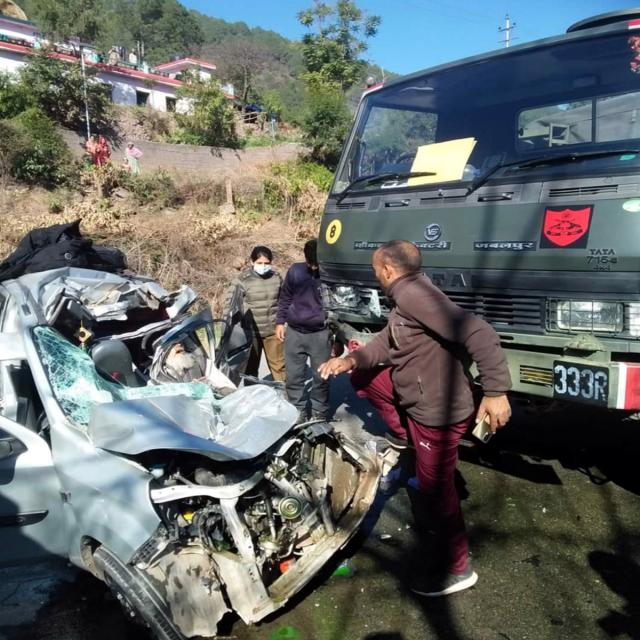accident: (0, 266, 395, 640)
truck: (319, 10, 640, 409)
